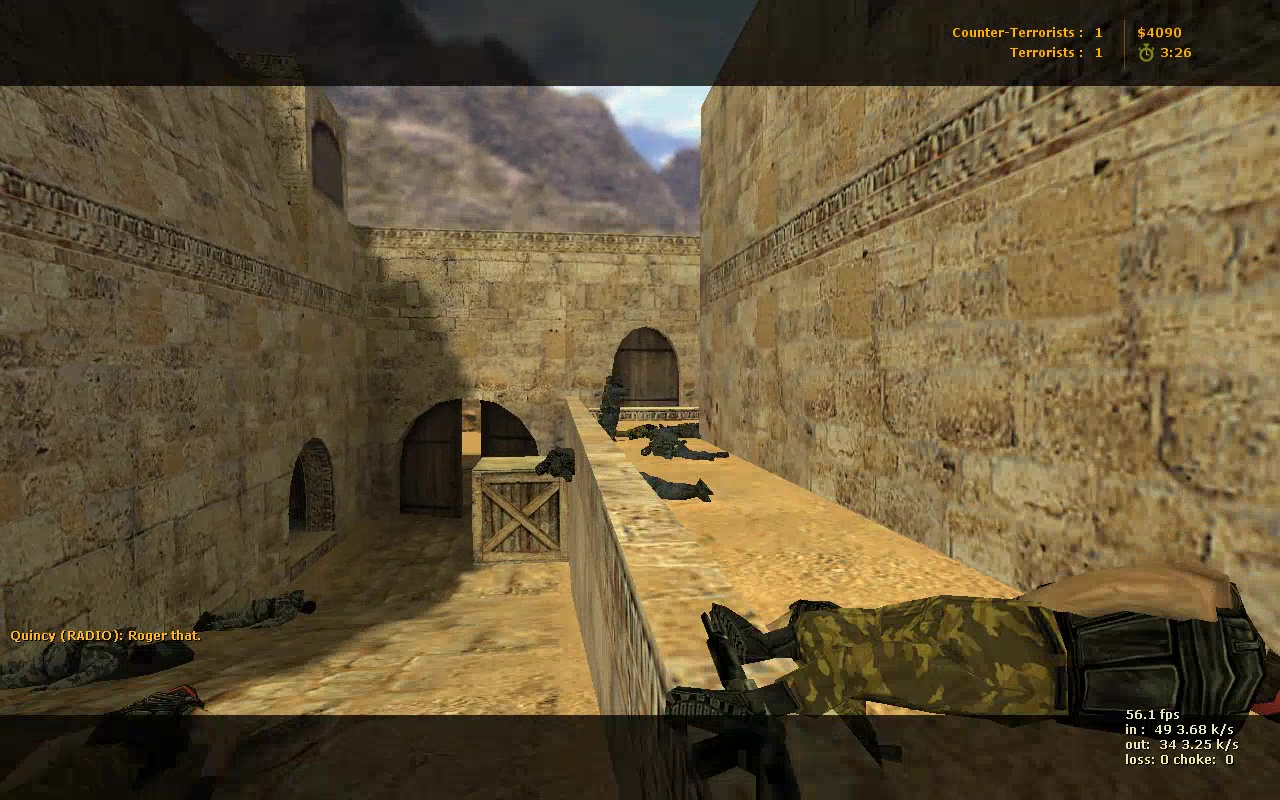ct: (600, 376, 629, 443)
dead: (710, 564, 1280, 731), (3, 685, 235, 796), (1, 631, 154, 688), (192, 588, 316, 633), (641, 428, 731, 461), (616, 421, 703, 441)
